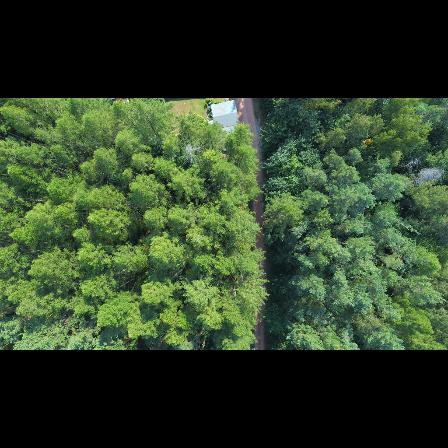Dead: (411, 164, 445, 188), (398, 153, 420, 172), (182, 141, 200, 164)
